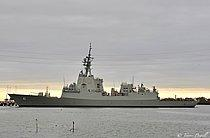MIL_Ship: (7, 51, 199, 108)
